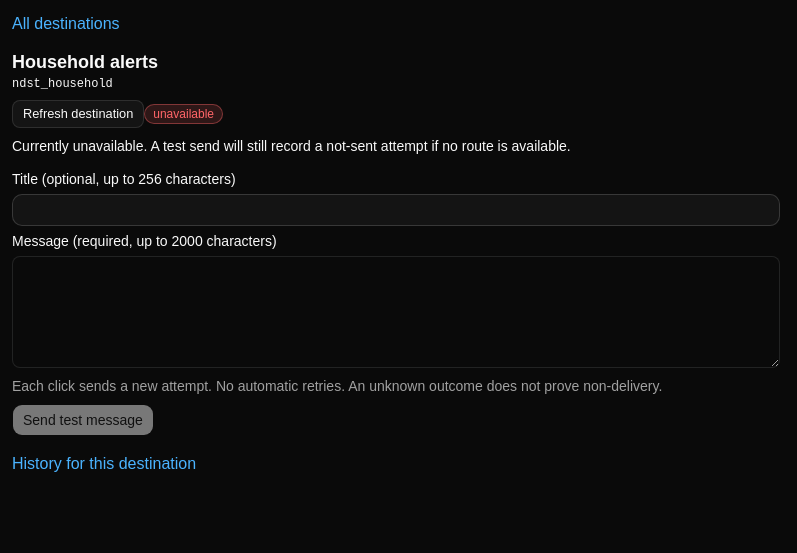
records a visible not-sent result for an unavailable destination rather than treating 201 as acceptance
Type "Test" into the text box labelled "Message (required, up to 2000 characters)" at (396, 312), box [12,256,780,368]
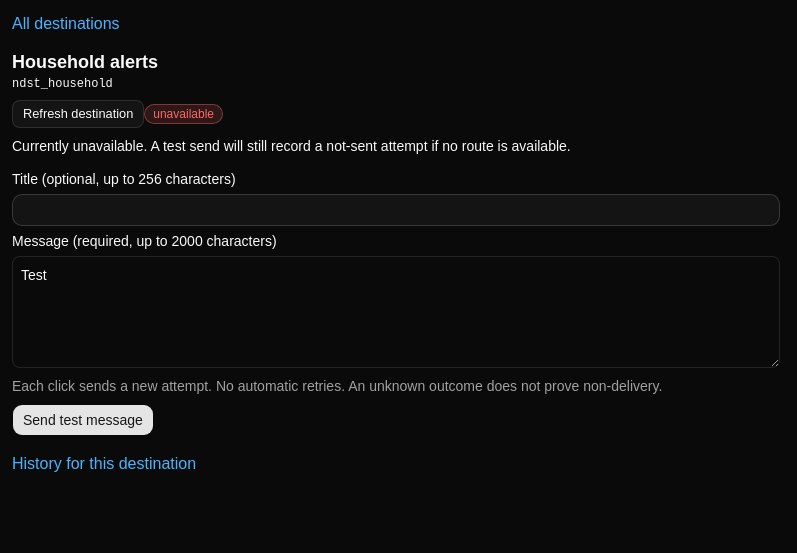
Click the button "Send test message" at (83, 420), box [12,404,154,436]
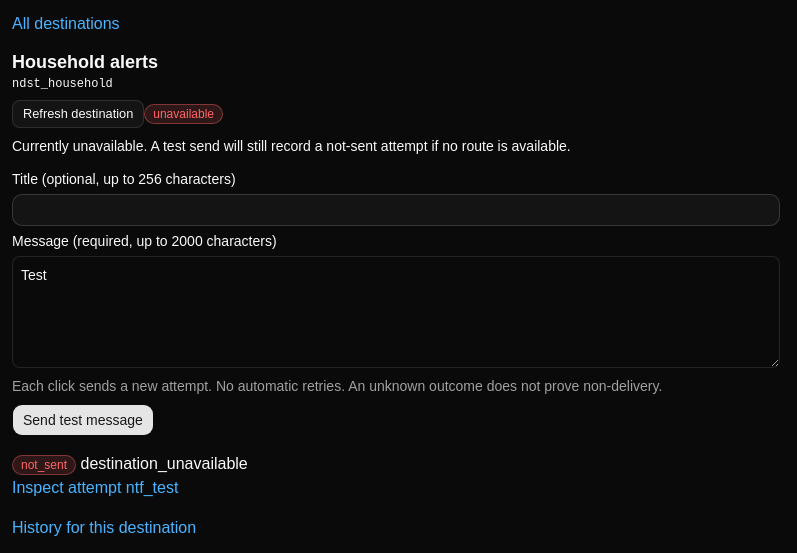
Result: the message shows "not_sent" at [21,458,67,472]
Result: the message shows "destination_unavailable" at [80,455,248,472]
